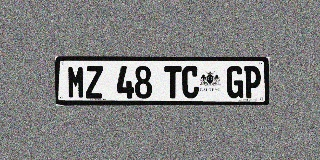4: (117, 66, 134, 98)
8: (135, 66, 152, 98)
C: (182, 66, 199, 98)
G: (227, 66, 244, 98)
M: (67, 66, 85, 99)
P: (244, 66, 261, 98)
T: (164, 66, 181, 98)
Z: (85, 66, 103, 99)
